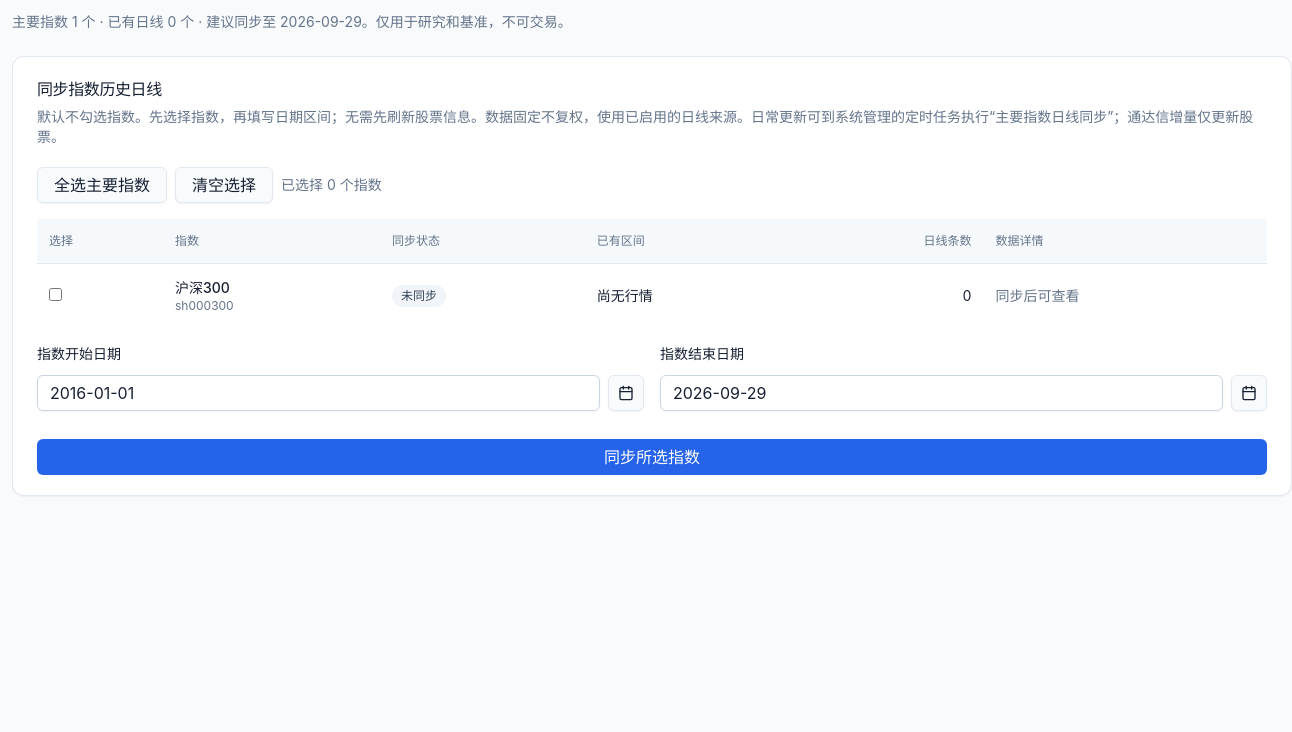
Test: 指数数据 › 同步失败展示错误，允许修正后重试
The width and height of the screenshot is (1292, 732).
Expected: the text "沪深300" is shown, [175,278,230,296]
What coordinates should you click on to do the following:
click the checkbox named "选择沪深300"
I would click on:
 (56, 294)
Its box is [49,288,62,300].
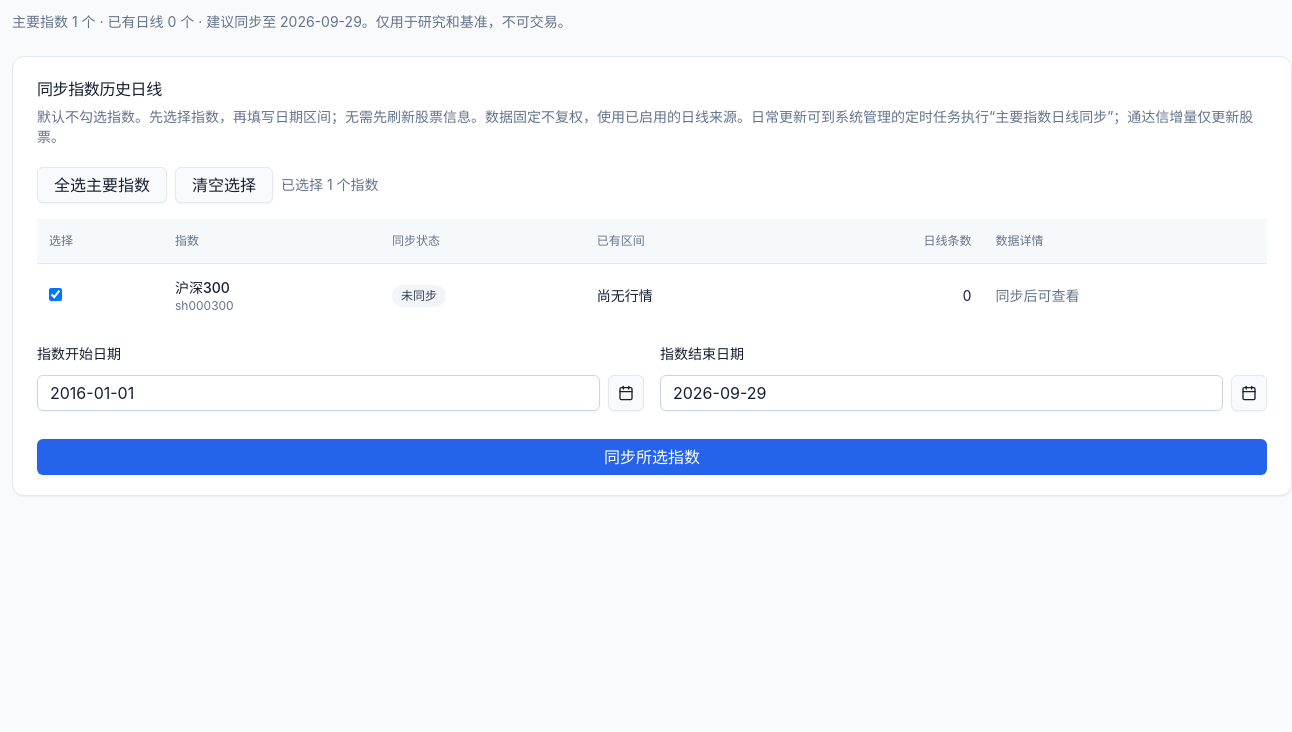
What coordinates should you click on to do the following:
click the button "同步所选指数"
I would click on:
 (652, 457)
Its box is [37,439,1267,475].
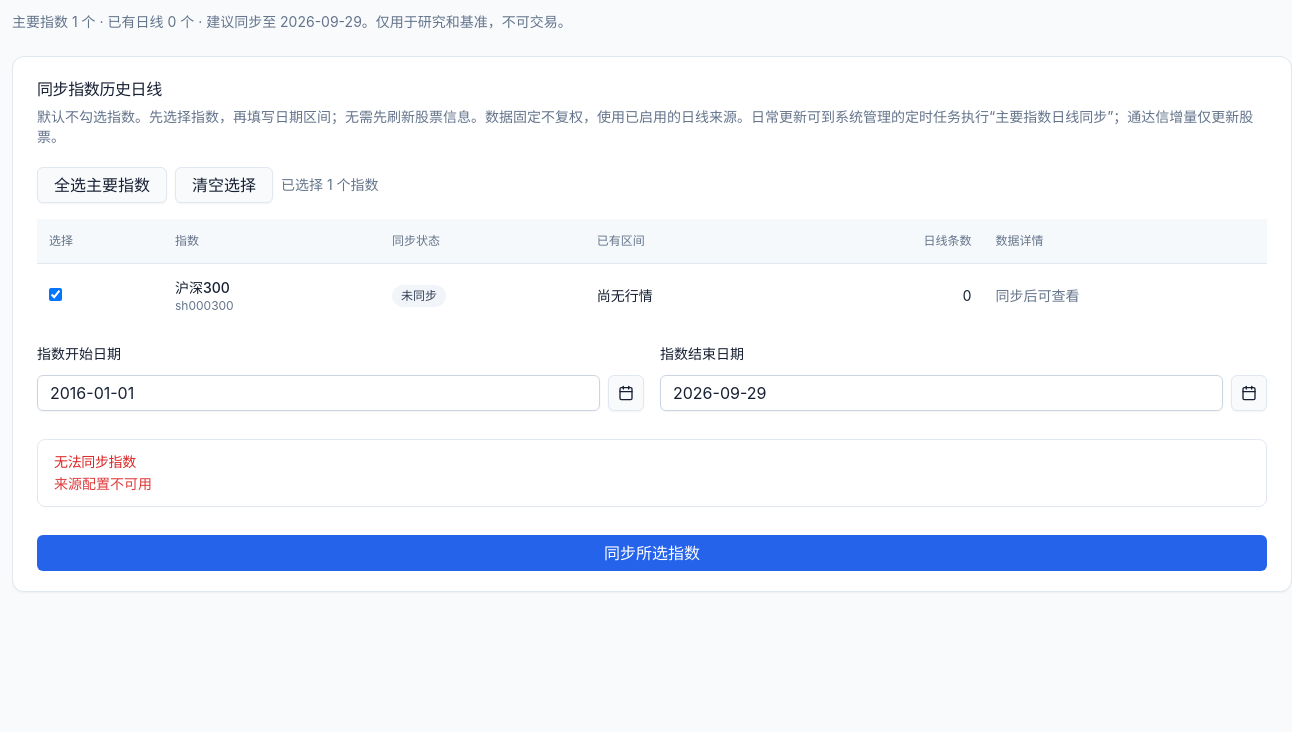
Expected: the button "同步所选指数" is enabled, [37,535,1267,571]
Now the text "来源配置不可用" is shown, box [54,475,152,492]
